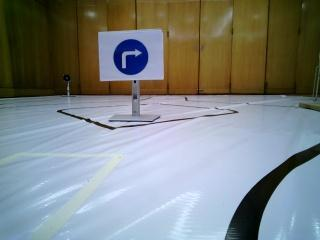right: (97, 32, 162, 80)
